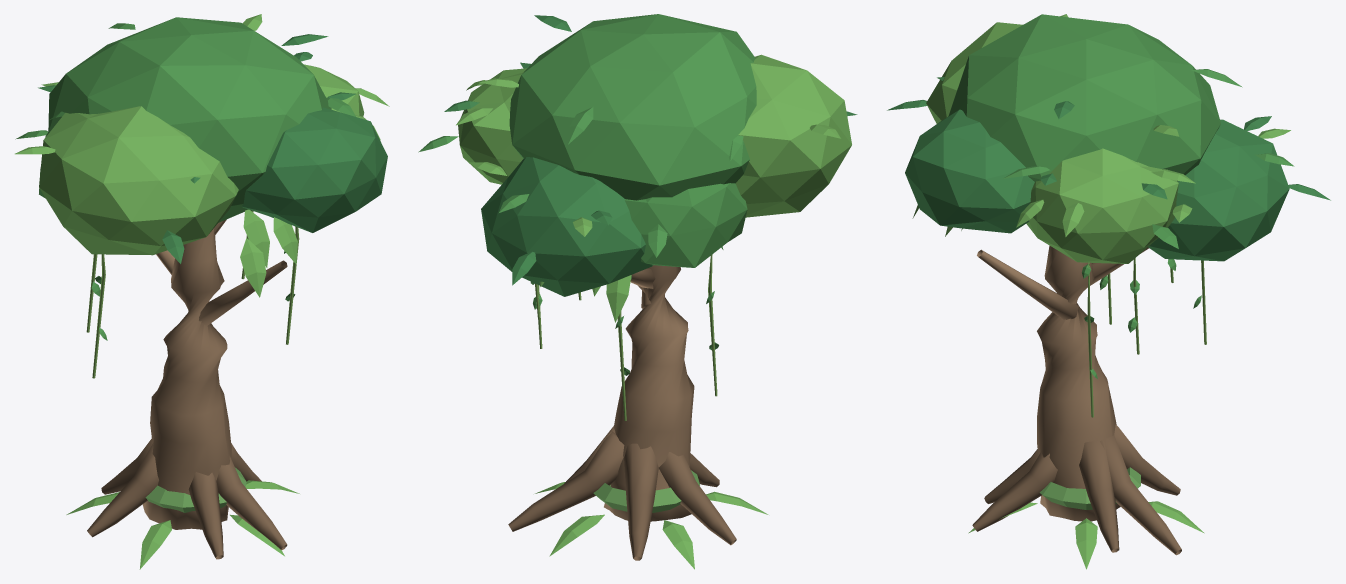
The model's file is tree_1.glb.
3 renders of one model, left to right at view 1: azimuth 30°, elevation 25°; view 2: azimuth 150°, elevation 25°; view 3: azimuth 270°, elevation 25°, orthographic.
Visible parts, largest first — view 1: tube; view 2: tube; view 3: tube.
Boxes of the visible parts, x1,y1,x2,y2 form: tube: [15, 14, 389, 569]; tube: [418, 14, 857, 569]; tube: [887, 14, 1330, 569].
Bounding box in the file's own units: 5.92 × 7.32 × 6.18.
